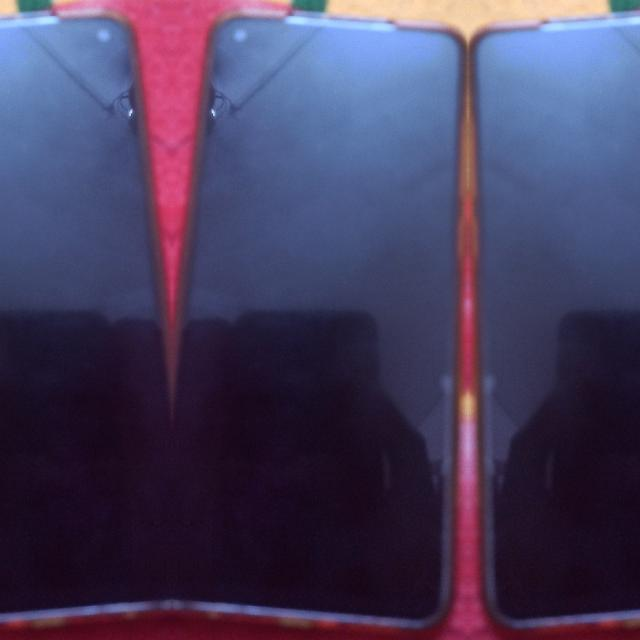phone_screen: (171, 16, 464, 626), (0, 16, 170, 621), (471, 16, 639, 626)
